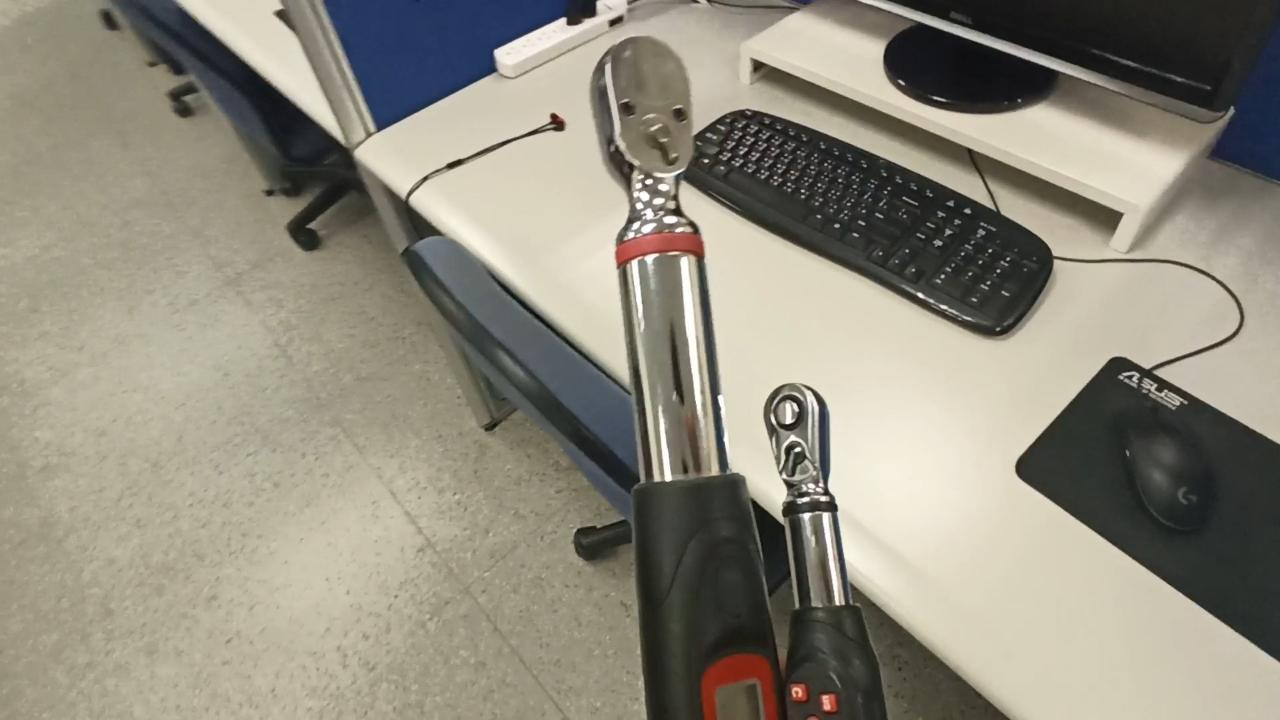Tool: (592, 31, 702, 225), (758, 378, 838, 504)
